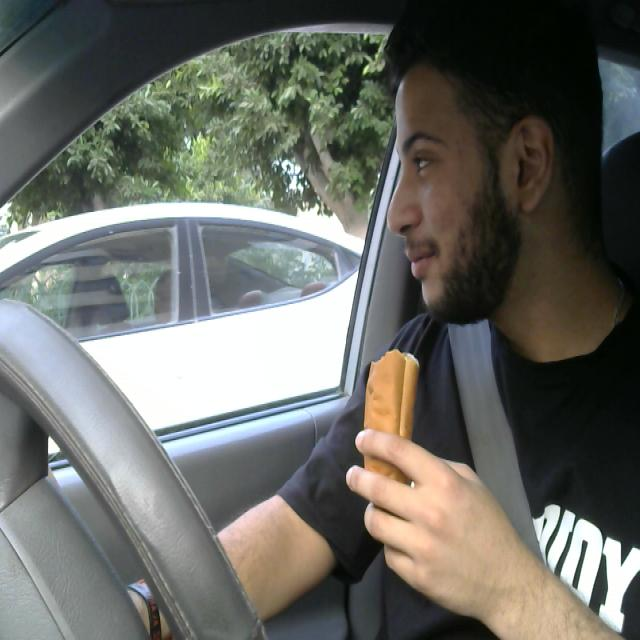eating: (355, 346, 429, 516)
